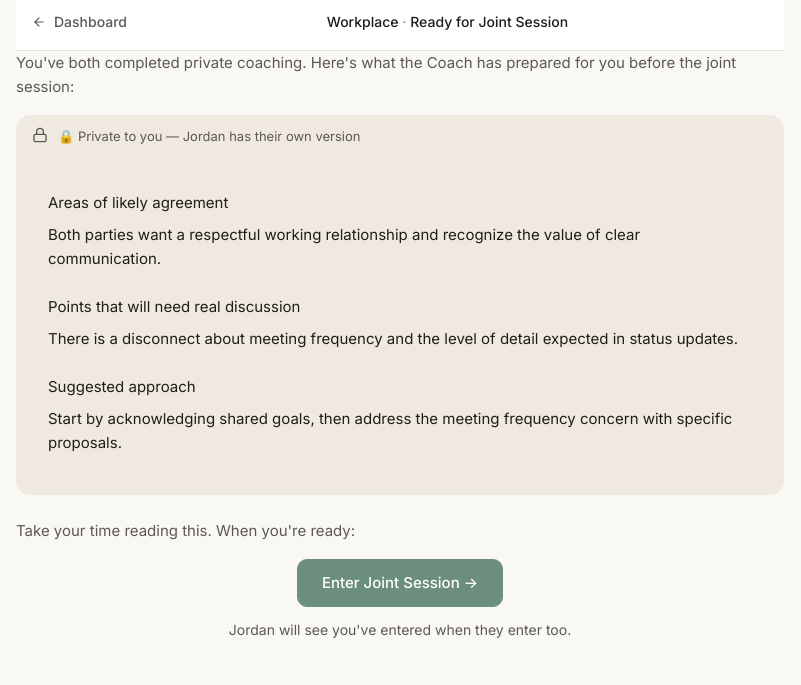
Test: AC: Clicking CTA transitions case to JOINT_ACTIVE and routes to /cases/:caseId/joint › displays an error message when enterSession mutation fails
Step 1. Click the button "Enter Joint Session →" → [400, 582], box [297,558,503,606]
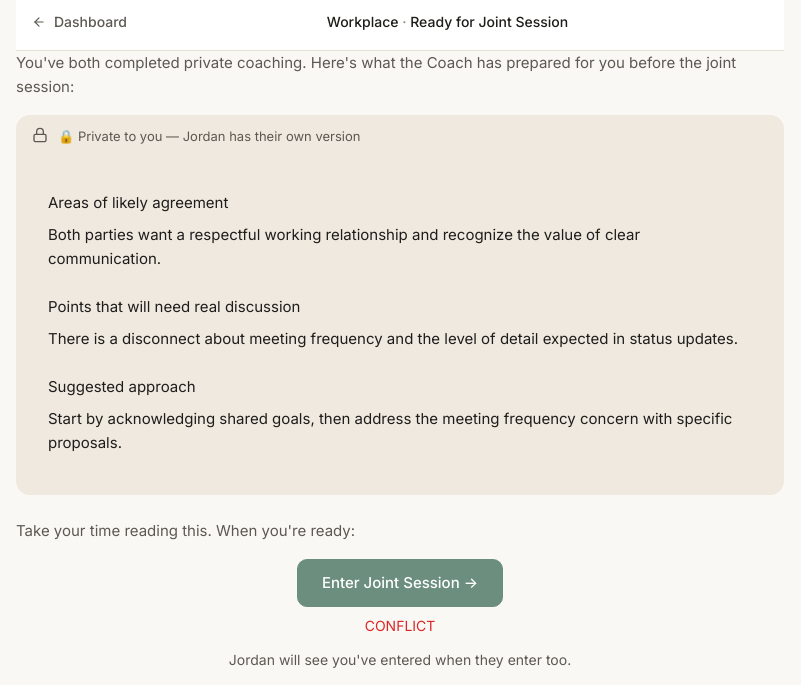
Check: the text "CONFLICT" is shown, box [365,616,435,634]
